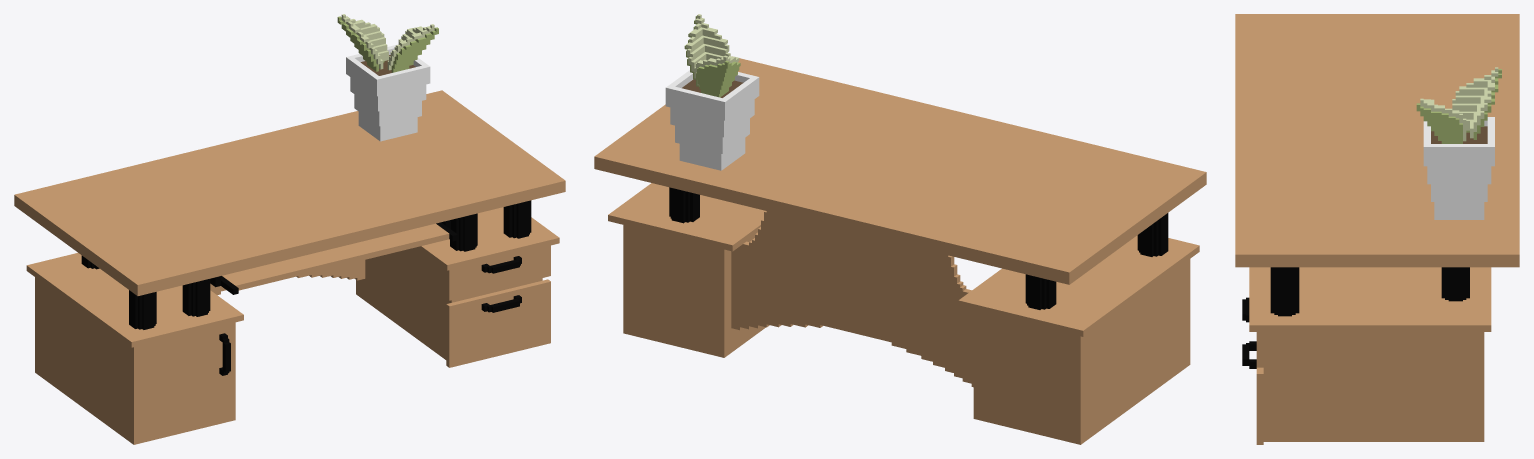
Rendered from website1.vox.obj.
The picture shows the model from 3 angles, left to right: view 1: azimuth 30°, elevation 25°; view 2: azimuth 150°, elevation 25°; view 3: azimuth 270°, elevation 25°; orthographic projection. The views are drawn at different scales.
Size of the model in its own units: 16 by 9.9 by 8.
Materials: 1 (1 with a texture image).
